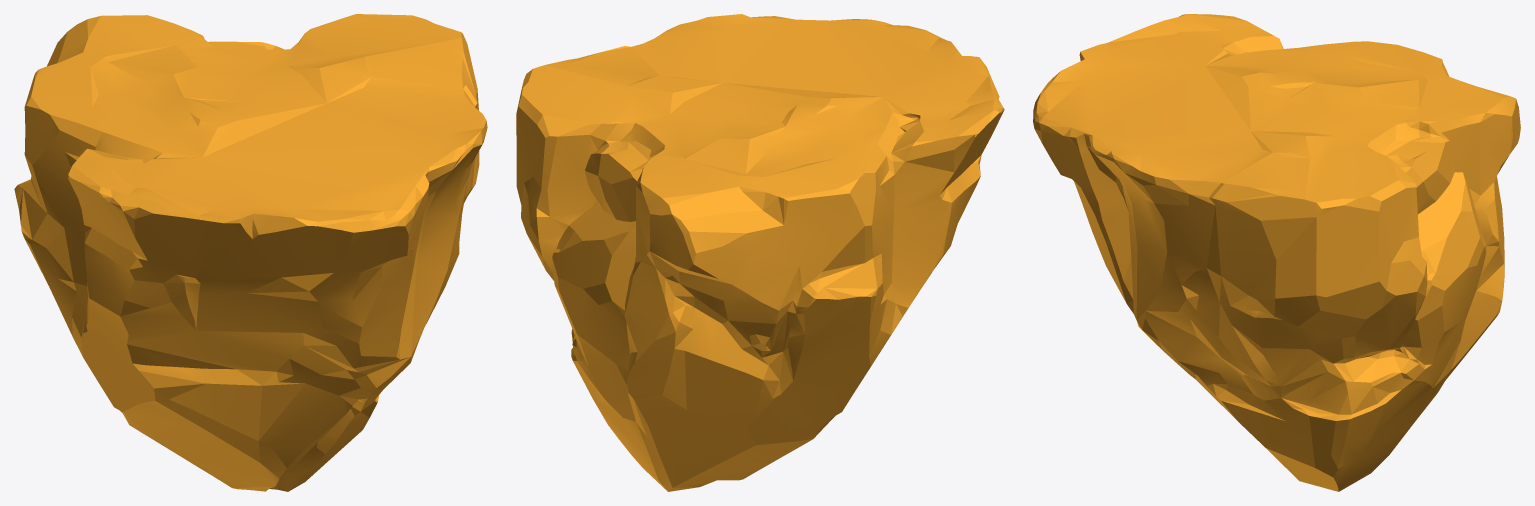
File: SM_Iceberg_Medium_C_Plane.fbx
3 views of the same model, side by side, from view 1: azimuth 30°, elevation 25°; view 2: azimuth 150°, elevation 25°; view 3: azimuth 270°, elevation 25° (orthographic). The views are drawn at different scales.
Parts seen in each view (by area): view 1: iceberg-medium-c-plane; view 2: iceberg-medium-c-plane; view 3: iceberg-medium-c-plane.
Part boxes in pixels (x1,y1,x2,y2): iceberg-medium-c-plane: (14,14,487,491); iceberg-medium-c-plane: (516,14,1004,491); iceberg-medium-c-plane: (1033,14,1520,491).
Bounding box in the file's own units: 12.83 × 11.21 × 13.95.
